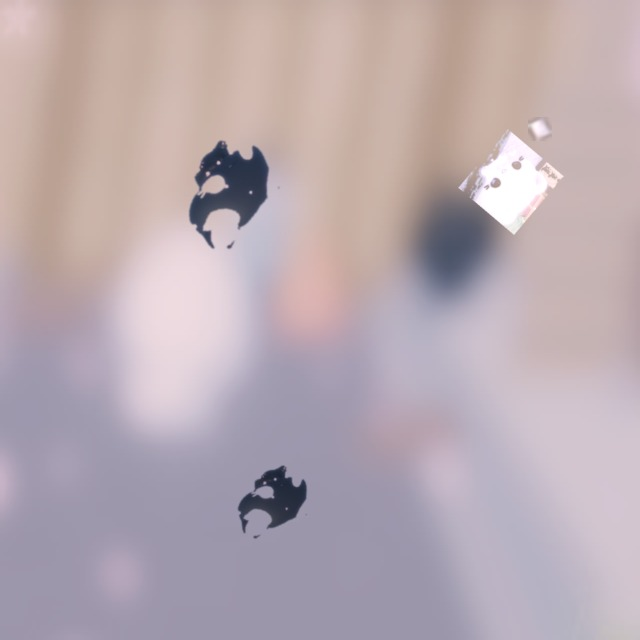urso_branco: (458, 129, 564, 235), (528, 117, 552, 141)
urso_preto: (150, 107, 307, 279), (209, 444, 335, 560)
